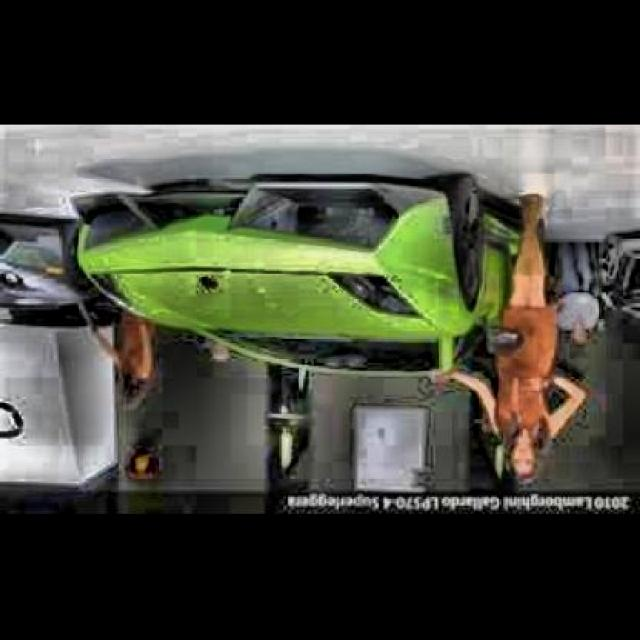green: (77, 176, 539, 382)
